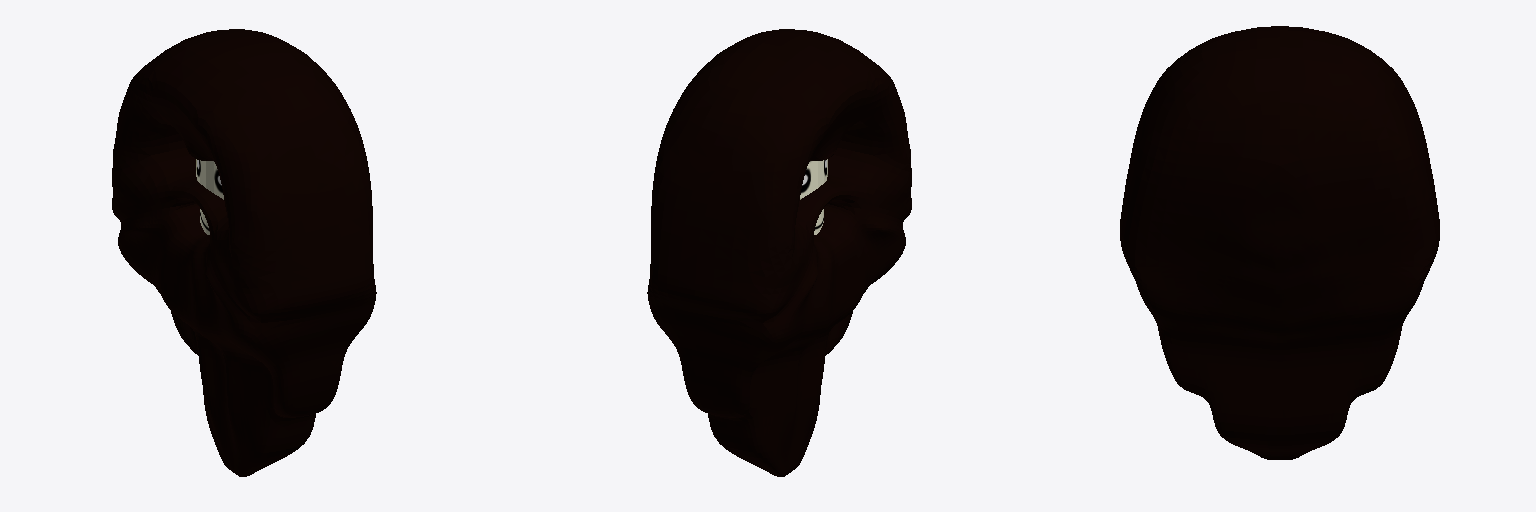
3 views of the same model, side by side, from view 1: azimuth 30°, elevation 25°; view 2: azimuth 150°, elevation 25°; view 3: azimuth 270°, elevation 25° (orthographic).
Visible parts, largest first — view 1: Cube_Cube.006, Cylinder; view 2: Cube_Cube.006, Cylinder; view 3: Cube_Cube.006.
Boxes of the visible parts, x1,y1,x2,y2 form: Cube_Cube.006: [112, 29, 376, 476]; Cylinder: [196, 159, 223, 199]; Cube_Cube.006: [647, 29, 911, 476]; Cylinder: [800, 159, 827, 199]; Cube_Cube.006: [1120, 26, 1439, 459].
Size of the model in its own units: 2.67 by 6.52 by 4.45.
3 materials, 2 textured.